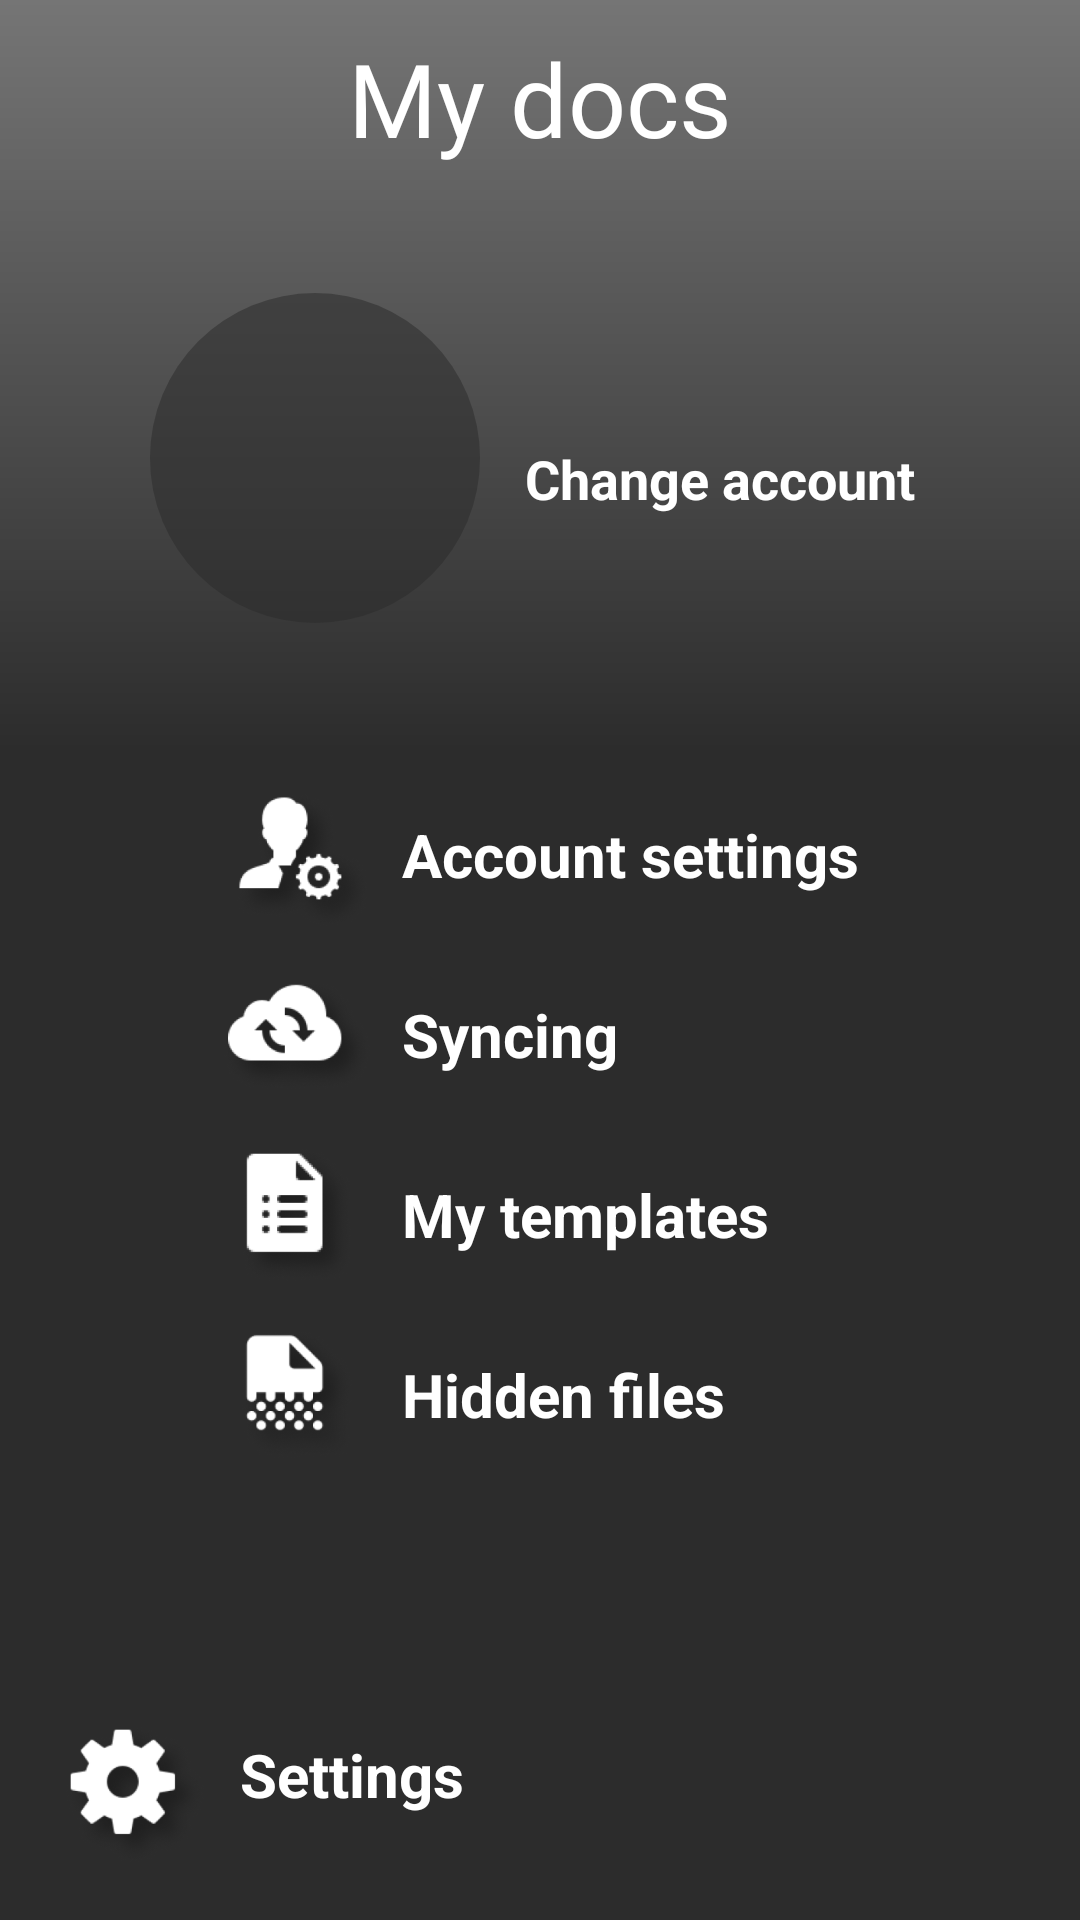

Icons on this 1080*1920 Android screen, each with its box as (x1, y1, x2, y2):
admin settings male: (239, 797, 342, 900)
cloud sync: (228, 984, 342, 1061)
